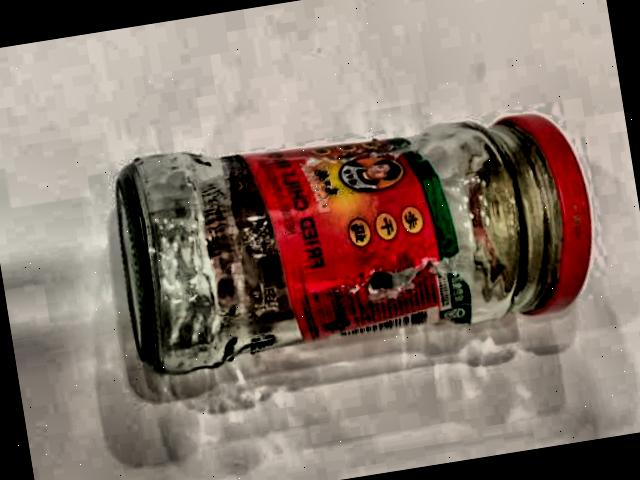Almennt: (86, 66, 606, 436)
